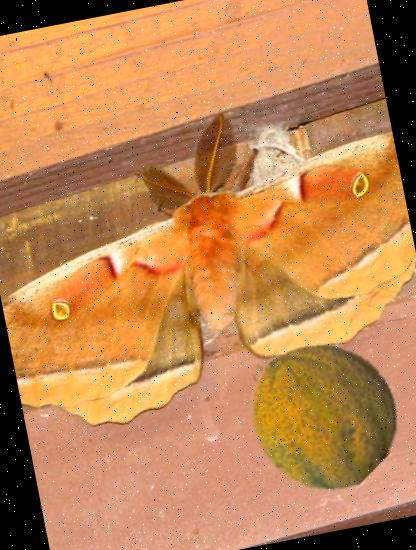Cantaloupe: (236, 326, 410, 501)
